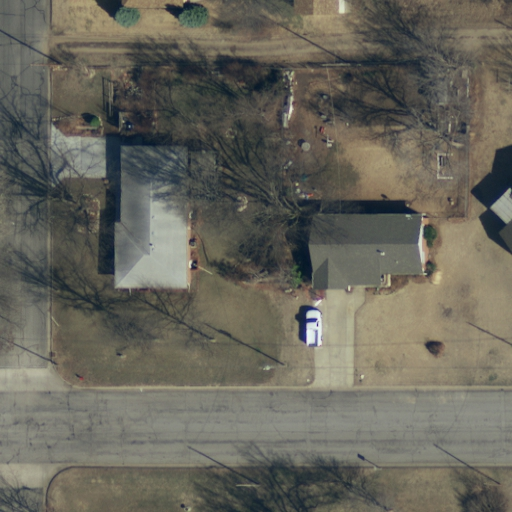DT: (253, 353, 291, 380), (228, 475, 267, 500), (467, 474, 507, 496)
